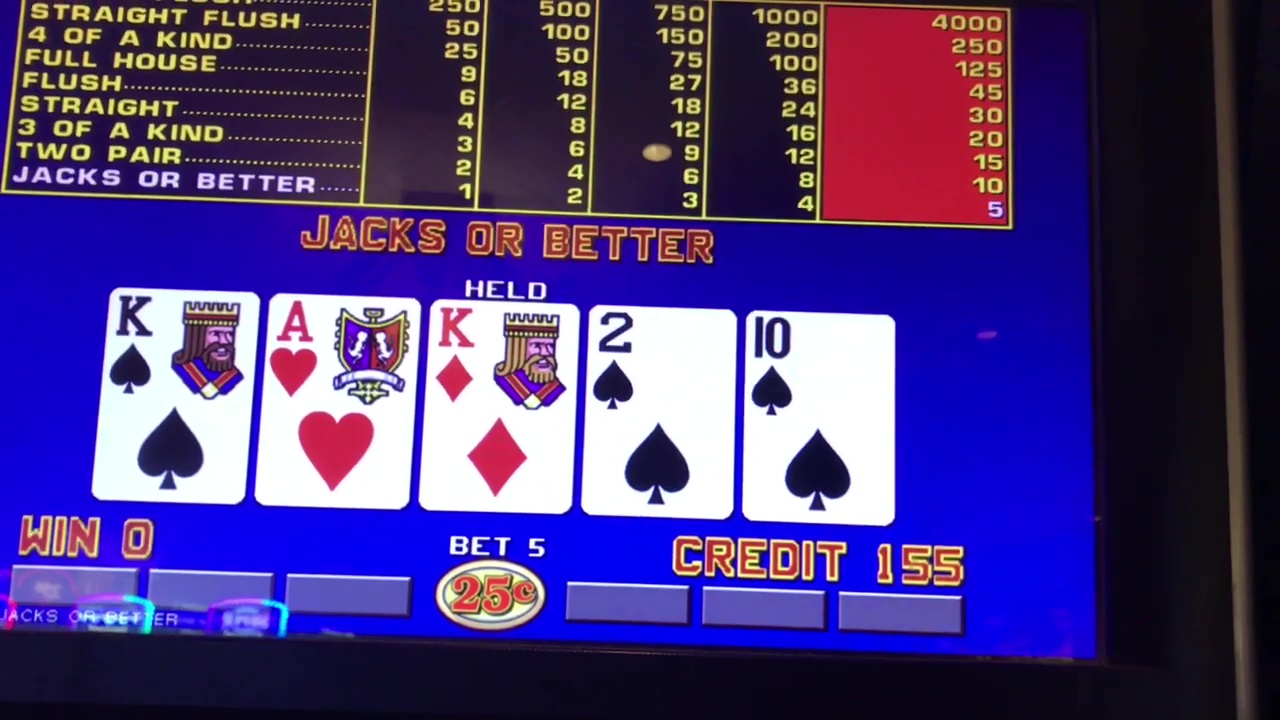DK: (432, 303, 571, 507)
HA: (271, 298, 411, 509)
S2: (587, 308, 731, 520)
SK: (109, 294, 244, 499)
ST: (744, 313, 893, 521)
